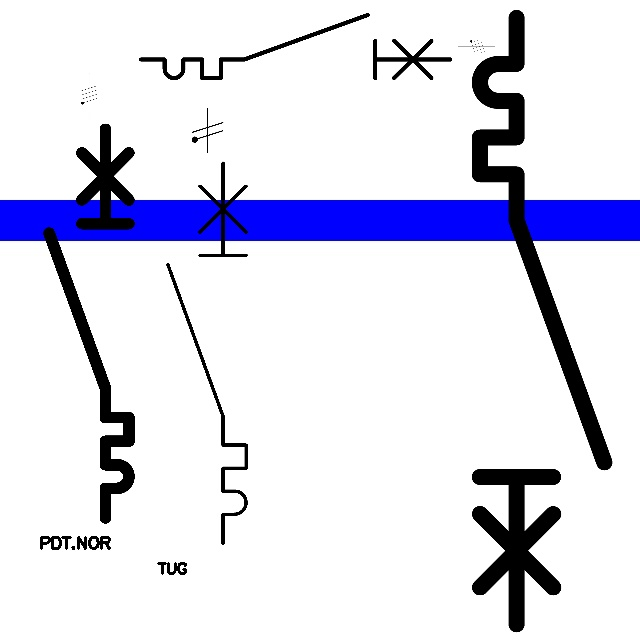interruptor_termomagnetico: (464, 2, 620, 640), (39, 119, 139, 528), (158, 153, 256, 552), (133, 7, 458, 86)
